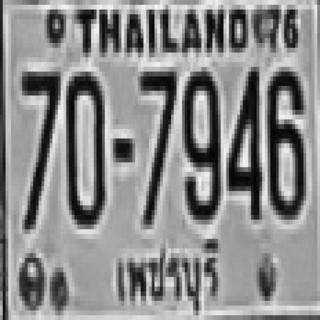N00: (64, 69, 106, 229)
N04: (226, 62, 262, 220)
N06: (265, 67, 307, 221)
N07: (19, 69, 58, 227), (138, 67, 174, 224)
N09: (182, 69, 220, 221)
P44: (109, 242, 223, 318)
